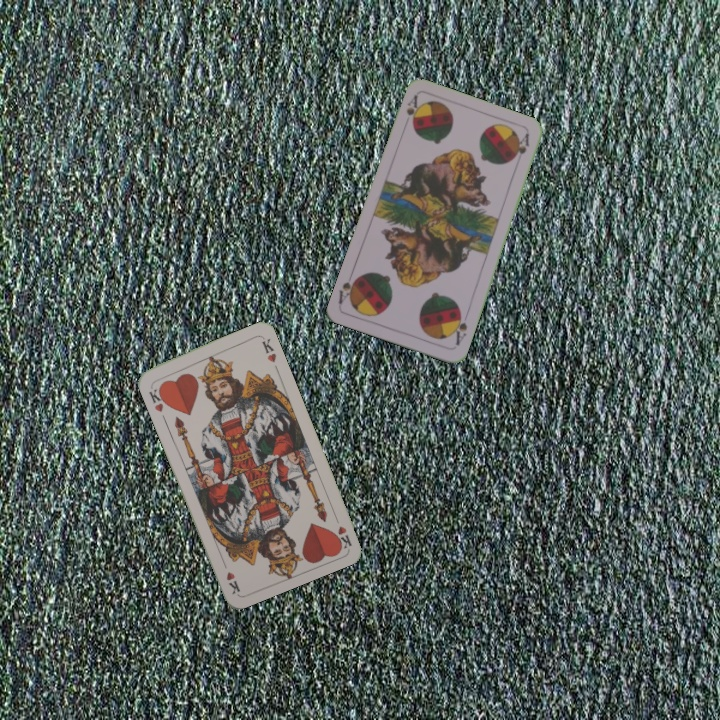HK: (330, 510, 354, 551), (145, 381, 170, 414)
SA: (448, 307, 470, 348), (400, 91, 422, 131)
